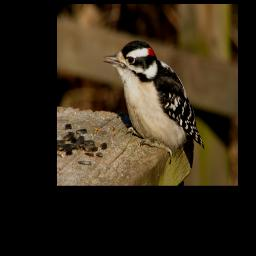Woodpecker: (101, 41, 206, 165)
